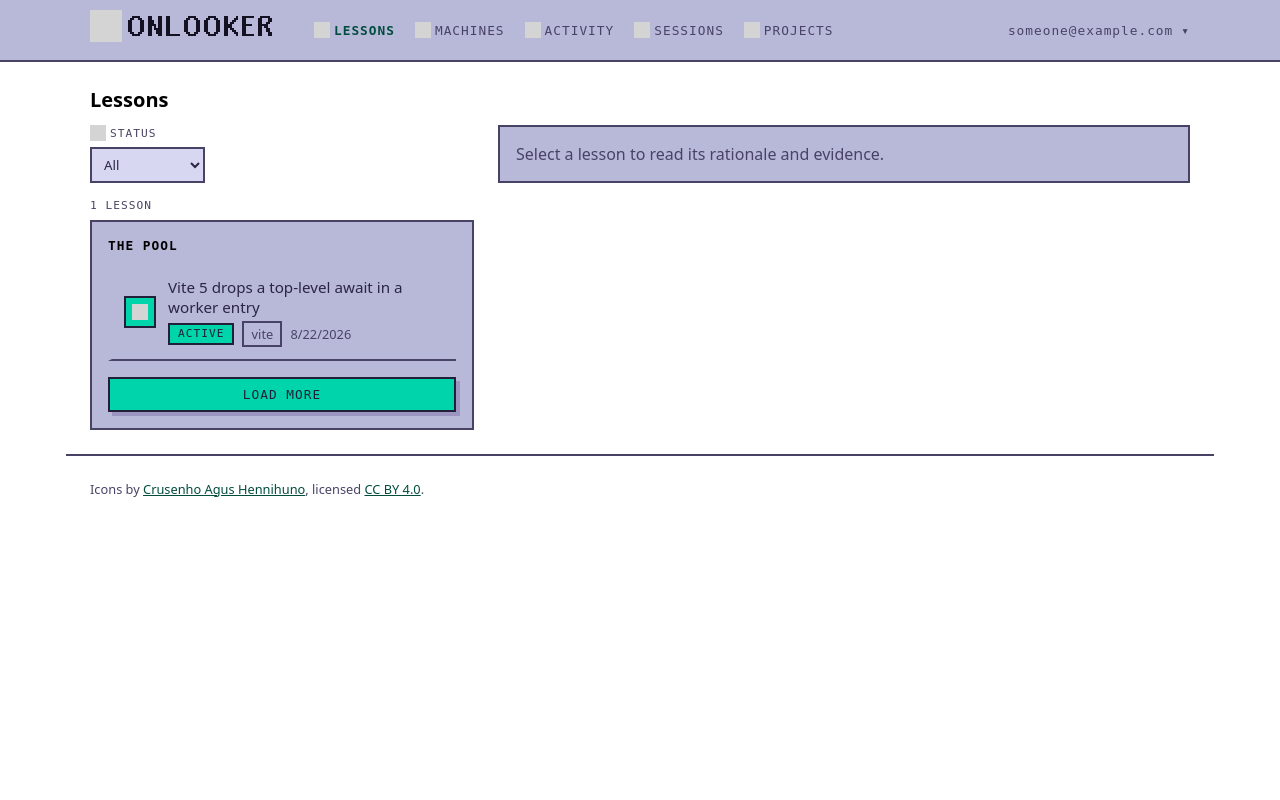
Test: paging past the first page › appends the next page without discarding the first
The width and height of the screenshot is (1280, 800).
expect the text "Vite 5 drops a top-level await in a worker entry" is shown: met, box [168, 277, 402, 317]
Click the button "Load more". click: [282, 394]
box: [108, 377, 456, 412]
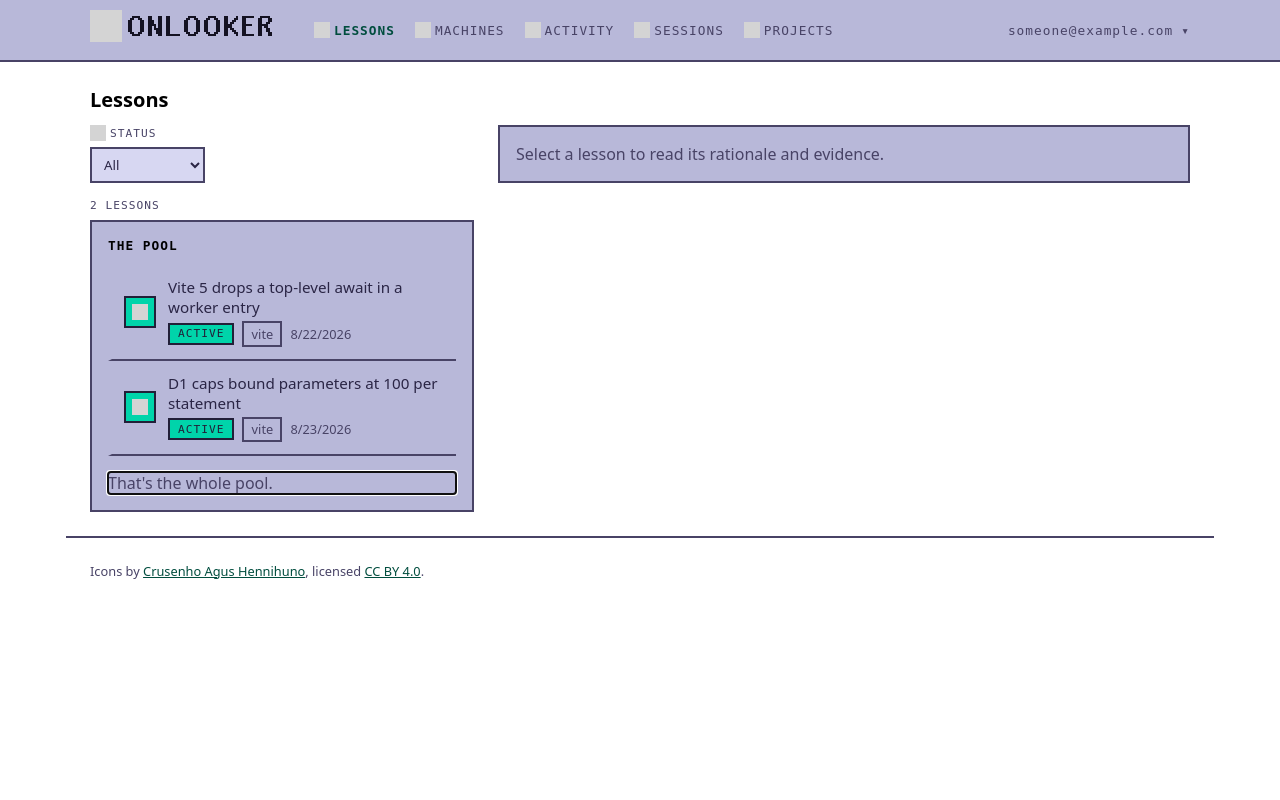
expect the text "Vite 5 drops a top-level await in a worker entry" is shown: met, box [168, 277, 402, 317]
expect the text "D1 caps bound parameters at 100 per statement" is shown: met, box [168, 373, 444, 413]
